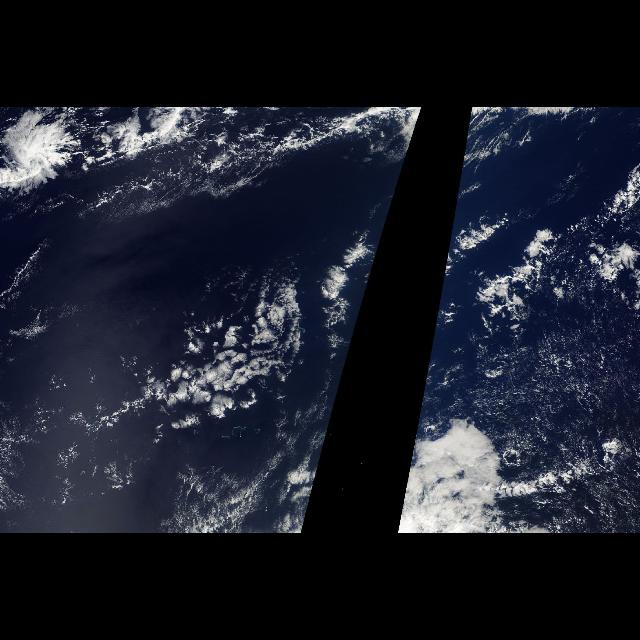Flower: (142, 300, 332, 398)
Sugar: (488, 269, 638, 527)
